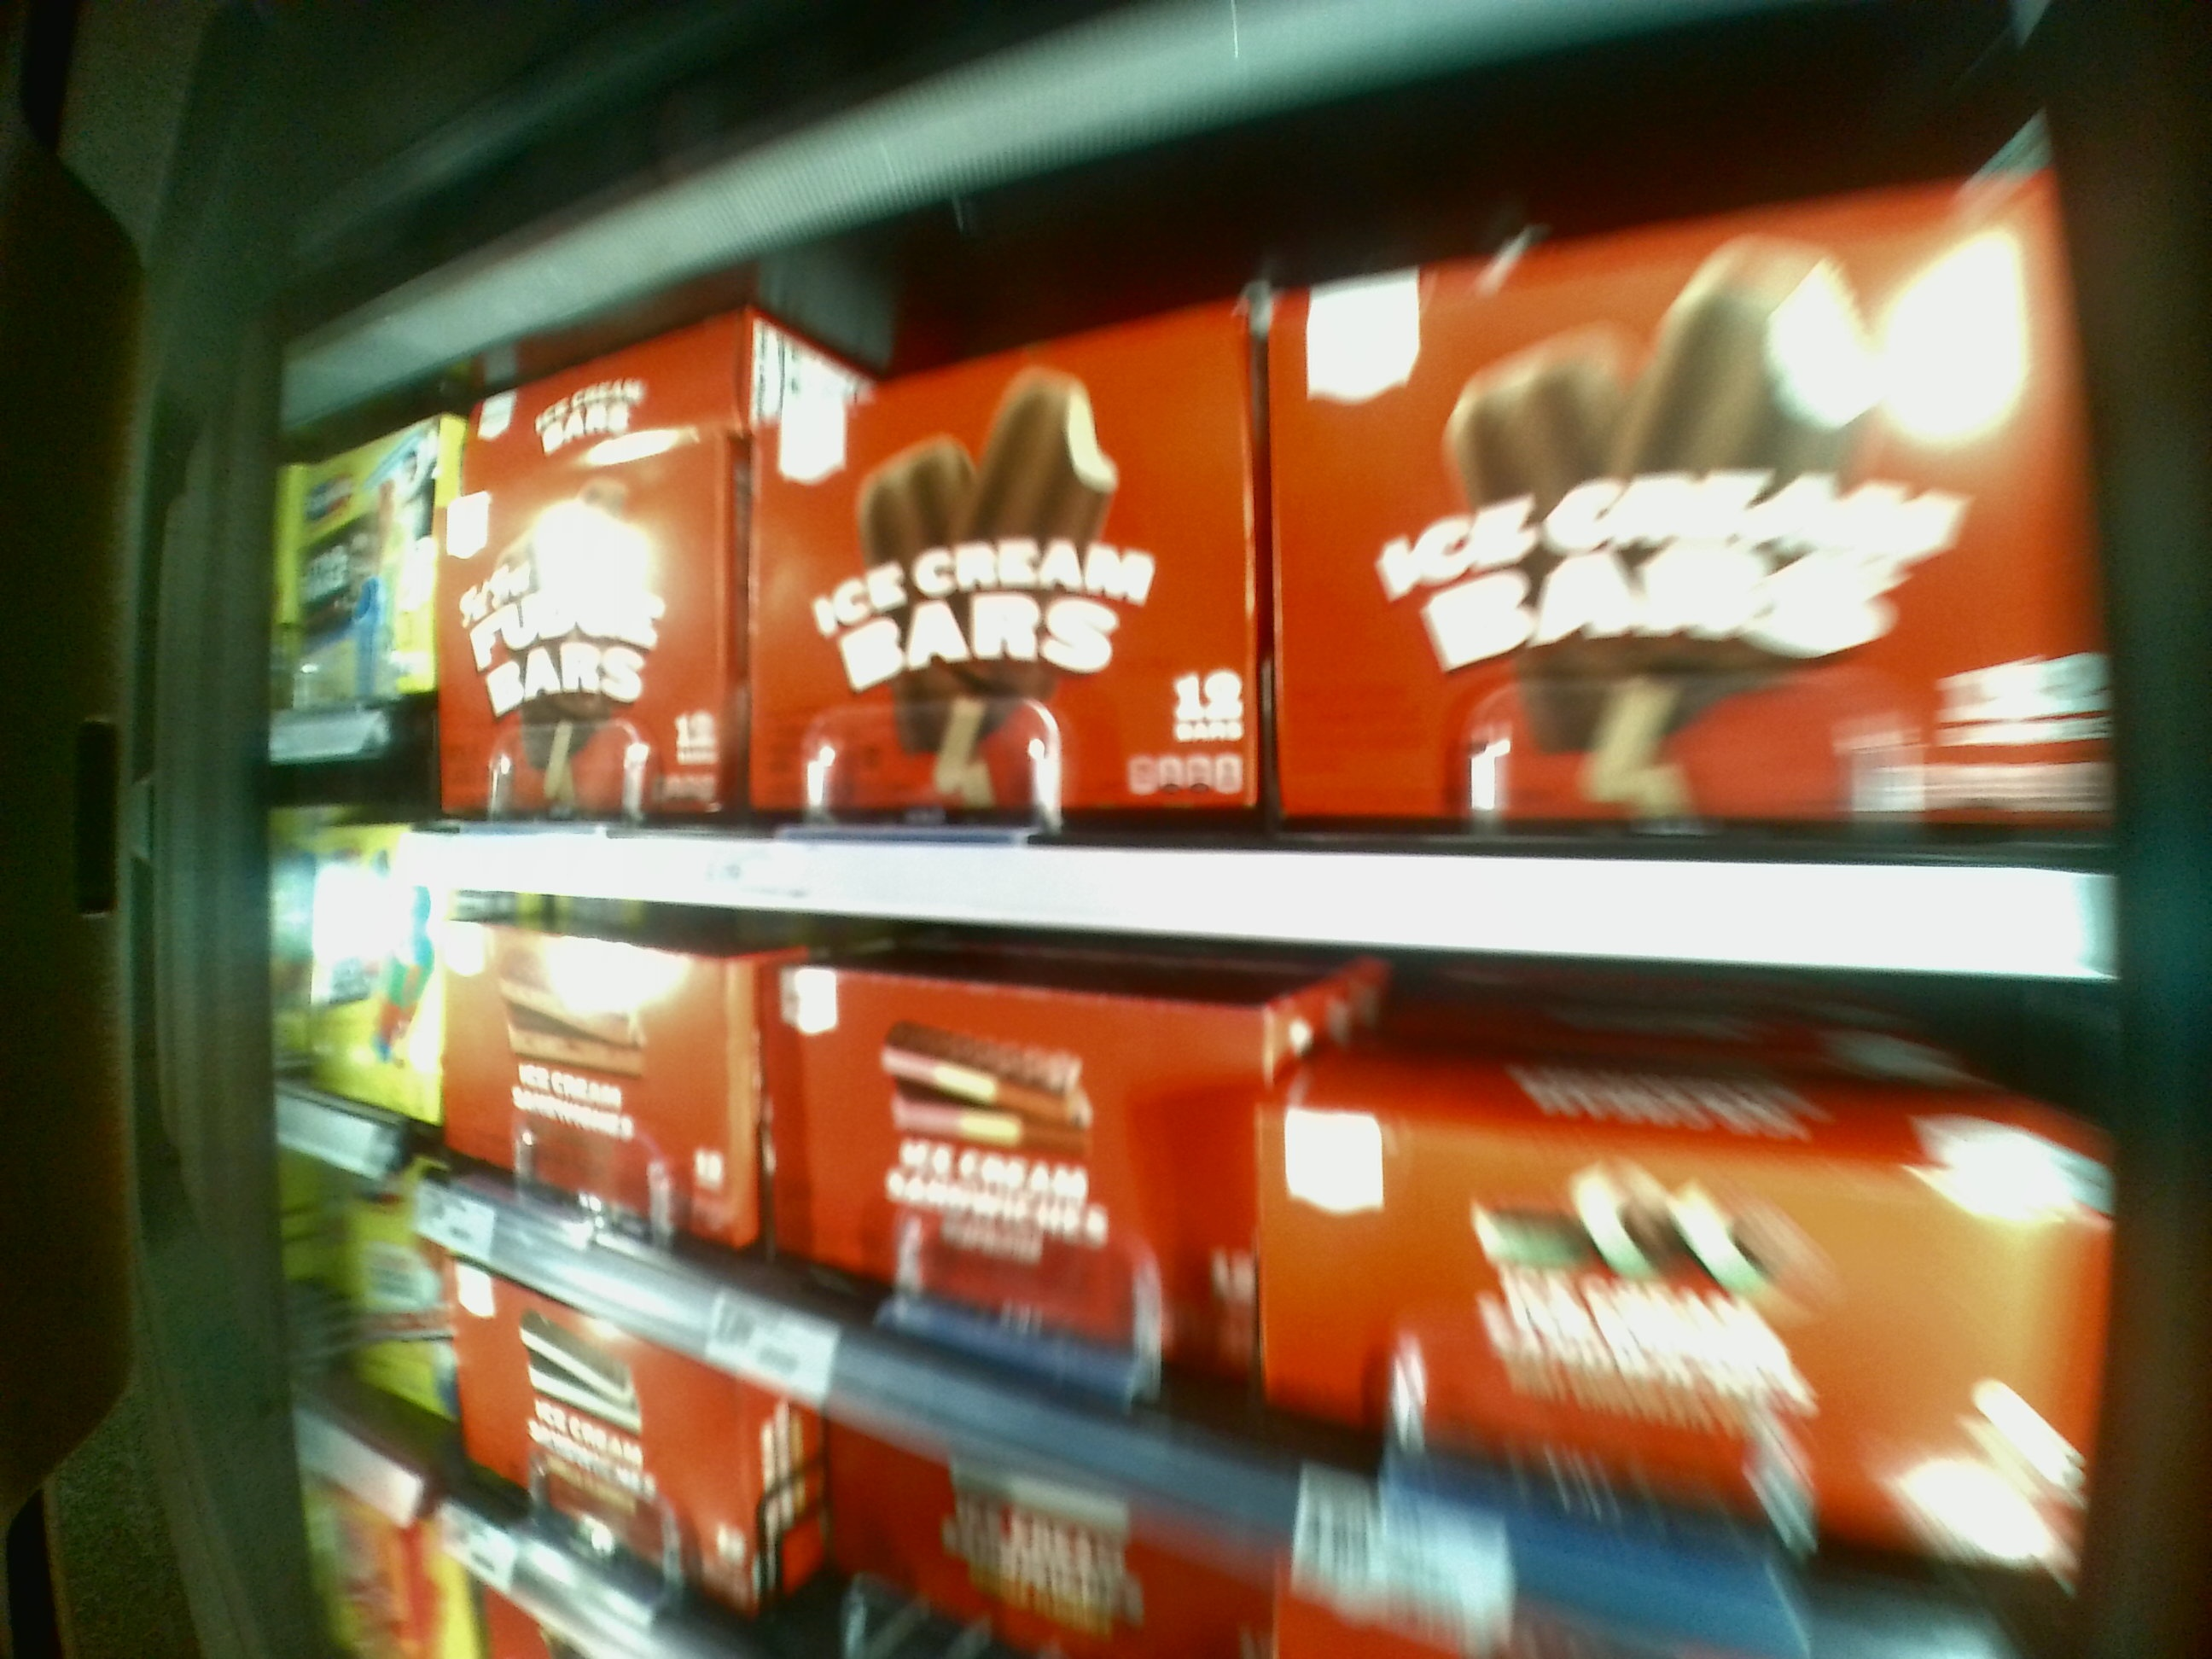shelf: (258, 213, 2116, 931)
